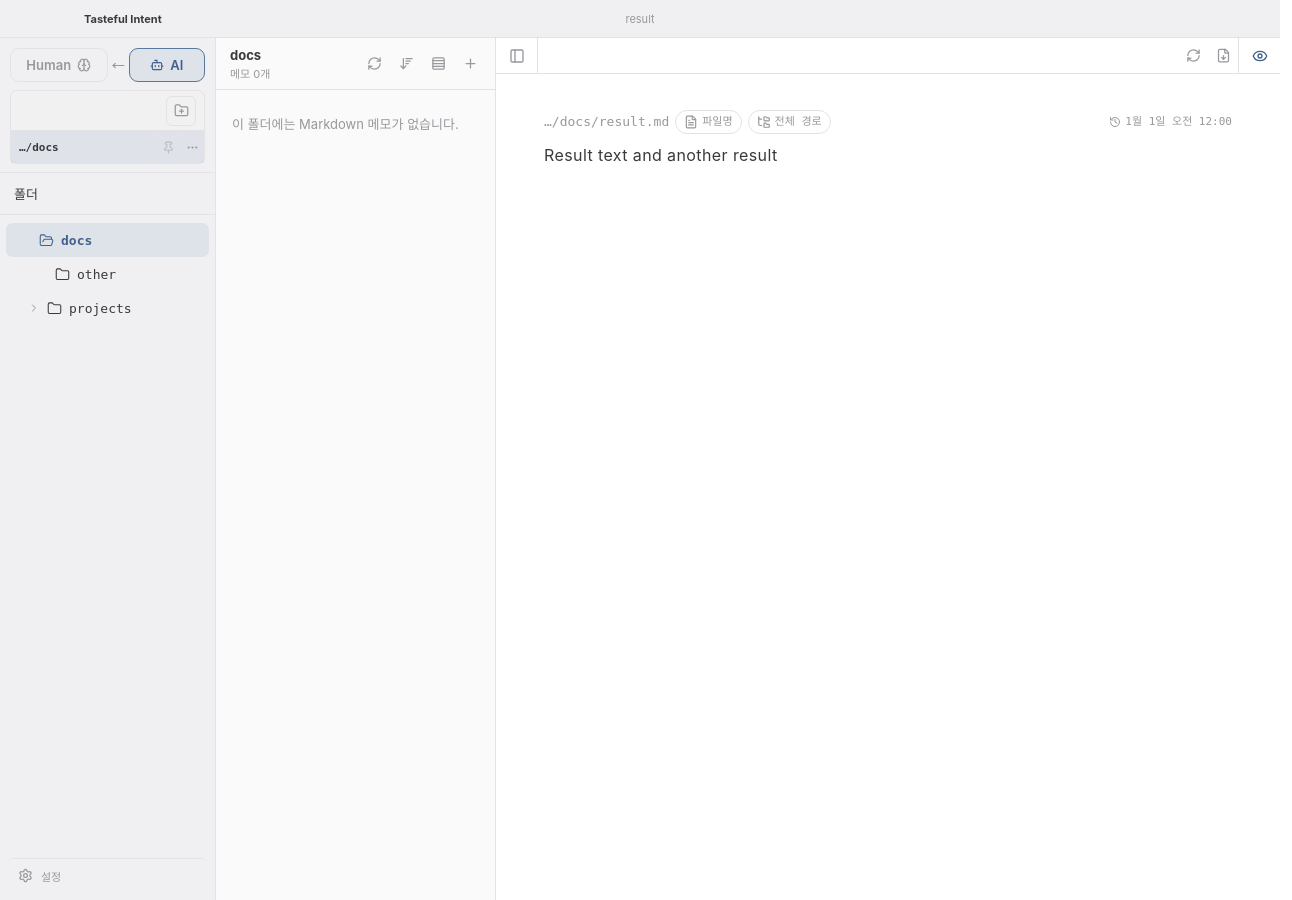
content toolbar › finds and marks the active AI View document with Command+F
The image size is (1292, 900).
Type keys "{Meta>}f{/Meta}"
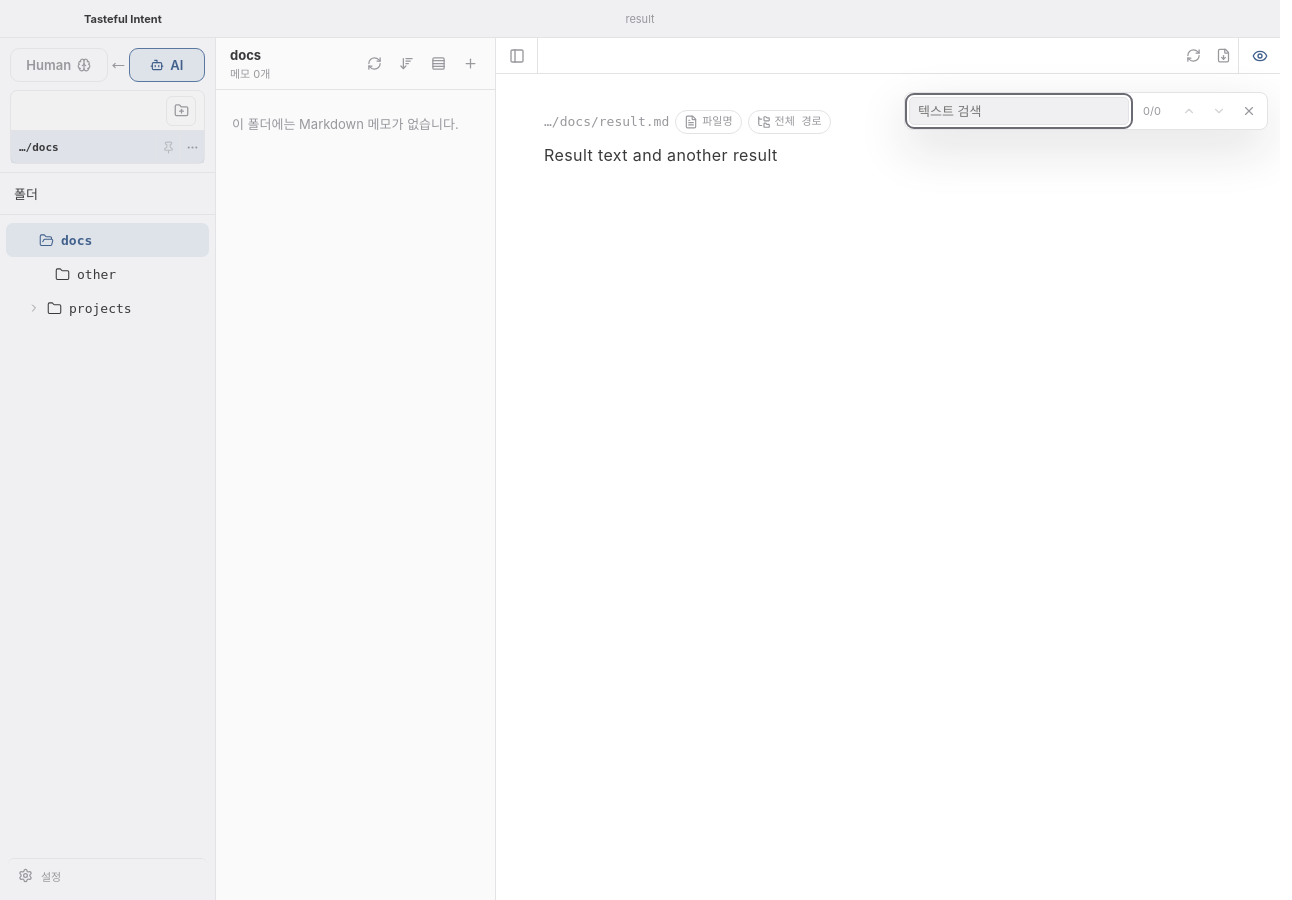
Type "result" into the search field named "현재 문서 검색" at (1019, 111), box [909, 97, 1129, 125]
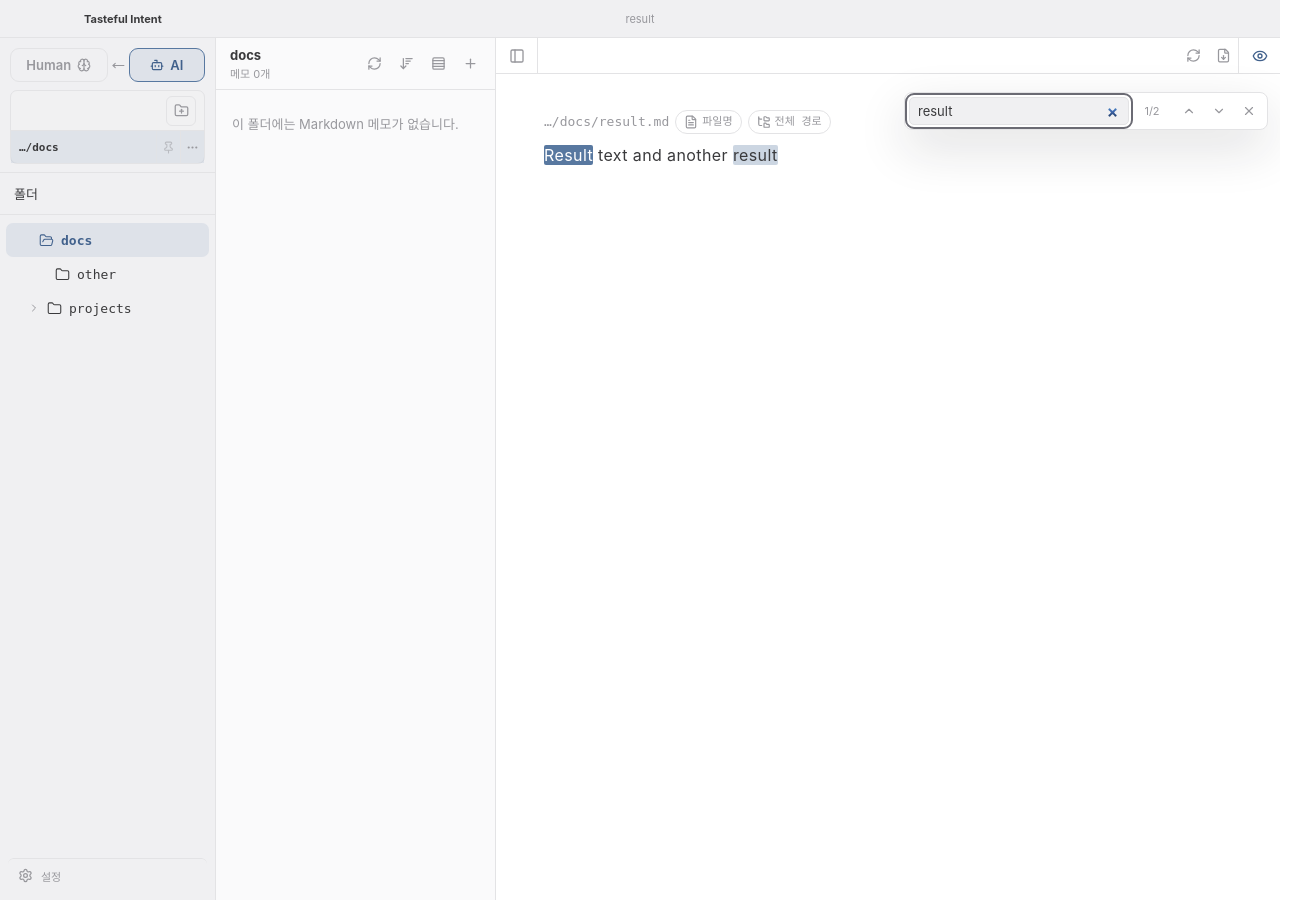
expect the text "1/2" is shown: met, box [1144, 104, 1160, 118]
expect the number of elements with class "document-find-match" is 2: met, box [544, 145, 593, 165]; [733, 145, 778, 165]
expect the number of elements with class "is-active" is 1: met, box [544, 145, 593, 165]
